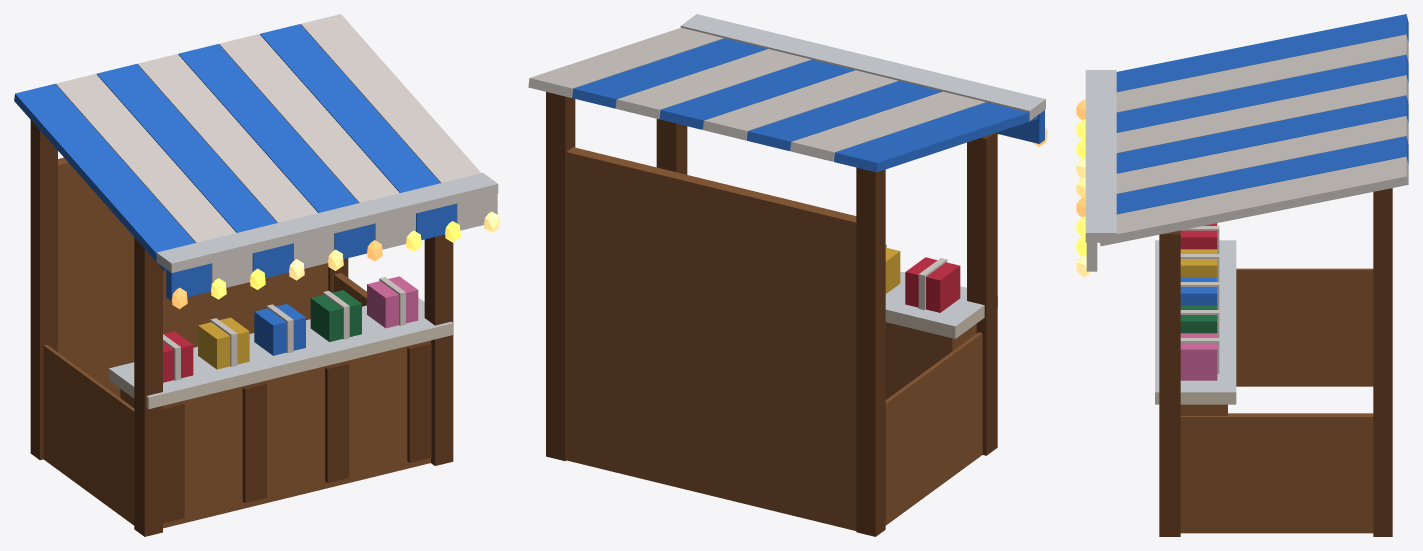
Rendered from Stall_Blue.glb.
3 views of the same model, side by side, from view 1: azimuth 30°, elevation 25°; view 2: azimuth 150°, elevation 25°; view 3: azimuth 270°, elevation 25° (orthographic). The views are drawn at different scales.
Visible parts, largest first — view 1: Stall_Blue_Stall, Stall_Blue_Canopy, Stall_Blue_Lights; view 2: Stall_Blue_Stall, Stall_Blue_Canopy; view 3: Stall_Blue_Stall, Stall_Blue_Canopy, Stall_Blue_Lights.
Part boxes in pixels (x1,y1,x2,y2): Stall_Blue_Stall: [30, 120, 453, 536]; Stall_Blue_Canopy: [14, 14, 498, 300]; Stall_Blue_Lights: [172, 211, 499, 308]; Stall_Blue_Stall: [546, 92, 997, 536]; Stall_Blue_Canopy: [528, 14, 1045, 172]; Stall_Blue_Stall: [1155, 188, 1392, 536]; Stall_Blue_Canopy: [1085, 14, 1408, 271]; Stall_Blue_Lights: [1076, 99, 1090, 276].
Bounding box in the file's own units: 9 × 9.4 × 7.76.
